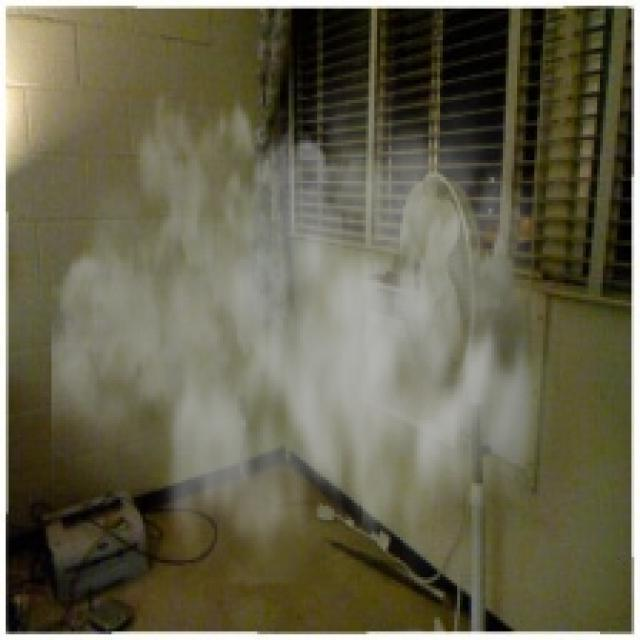Smoke: (51, 40, 583, 586)
